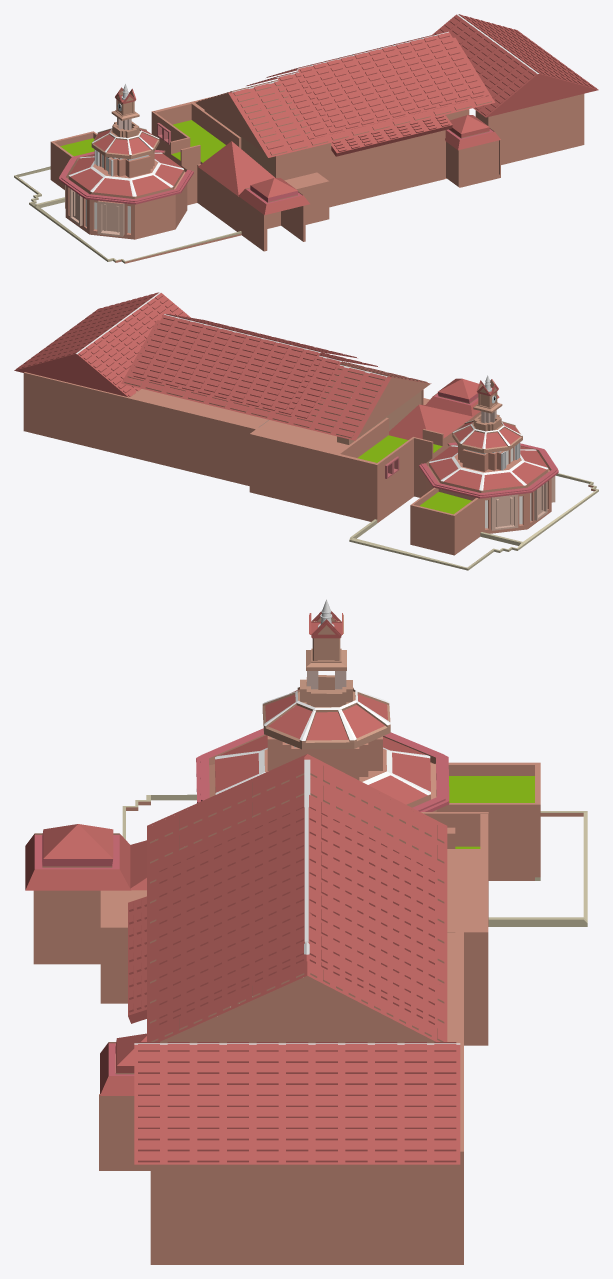
File: clock.glb
The picture shows the model from 3 angles, top to bottom: view 1: azimuth 30°, elevation 25°; view 2: azimuth 150°, elevation 25°; view 3: azimuth 270°, elevation 25°; orthographic projection. The views are drawn at different scales.
Visible parts, largest first — view 1: Cube, Plane.003, Cylinder, Plane.004, Plane.001, Plane.002, Cube.013, Plane, Cube.003, Cylinder.001, Cube.014, Cube.002 (+2 smaller); view 2: Cube, Plane.003, Plane.004, Plane.001, Cylinder, Plane.002, Cube.013, Cylinder.001, Cube.003, Cube.001, Cube.015, Cube.012; view 3: Cube, Plane.003, Plane.004, Plane.001, Cylinder, Cube.003, Plane.002, Cylinder.001, Plane, Cube.014, Cube.012, Cube.001 (+1 smaller).
Part boxes in pixels (box(x1,y1,x2,y2)): Cube: box(14, 94, 584, 263); Plane.003: box(266, 31, 486, 129); Cylinder: box(59, 149, 193, 239); Plane.004: box(432, 14, 598, 117); Plane.001: box(195, 37, 495, 157); Plane.002: box(246, 71, 485, 138); Cube.013: box(198, 141, 274, 196); Plane: box(331, 115, 452, 156); Cube.003: box(238, 178, 309, 215); Cylinder.001: box(91, 127, 159, 159); Cube.014: box(445, 115, 500, 150); Cube.002: box(104, 152, 154, 177); Cube: box(23, 372, 598, 570); Plane.003: box(130, 314, 357, 411); Plane.004: box(14, 292, 190, 397); Plane.001: box(121, 320, 431, 440); Cylinder: box(419, 442, 558, 533); Plane.002: box(131, 352, 377, 420); Cube.013: box(389, 404, 473, 439); Cylinder.001: box(452, 420, 522, 453); Cube.003: box(426, 378, 499, 416); Cube.001: box(458, 445, 509, 471); Cube.015: box(337, 391, 421, 444); Cube.012: box(473, 379, 502, 413); Cube: box(33, 762, 587, 1264); Plane.003: box(156, 807, 437, 1021); Plane.004: box(134, 1042, 460, 1164); Plane.001: box(147, 754, 447, 1043); Cylinder: box(196, 728, 449, 811); Cube.003: box(25, 824, 130, 890); Plane.002: box(156, 794, 437, 1028); Cylinder.001: box(262, 687, 390, 749); Plane: box(128, 896, 146, 1023); Cube.014: box(100, 1033, 146, 1095); Cube.012: box(306, 611, 346, 670); Cube.001: box(325, 736, 382, 780).
Size of the model in its own units: 82.62 by 21.11 by 41.22.
